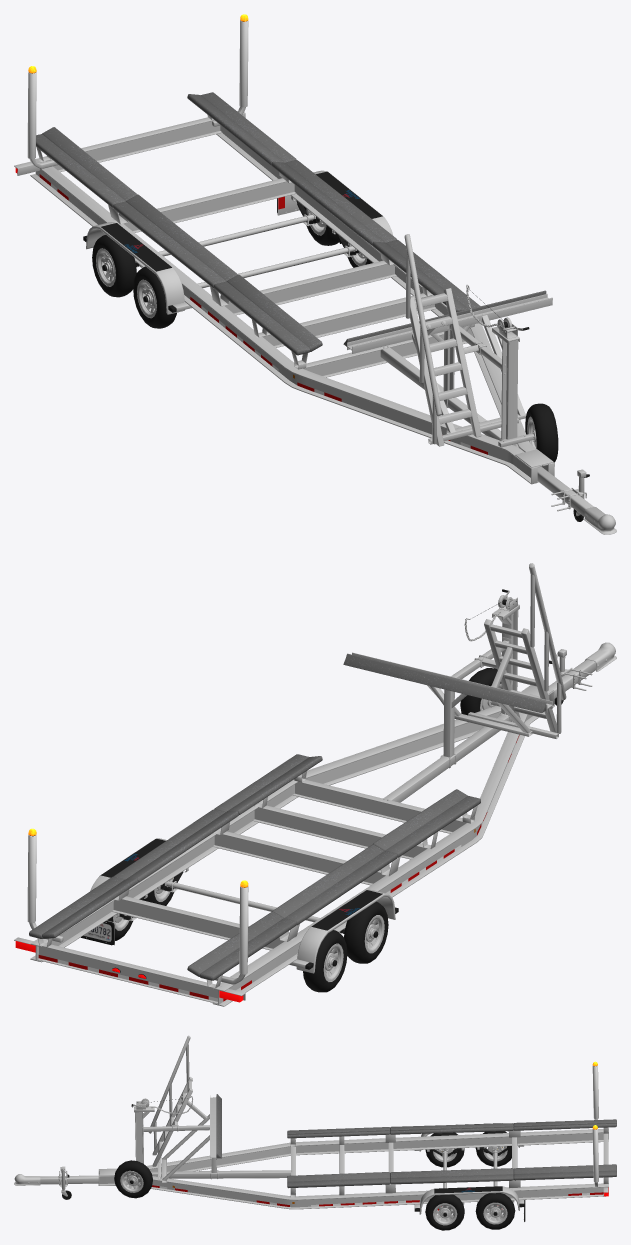
Rendered from trailer_low.glb.
3 views of the same model, one above another, from view 1: azimuth 30°, elevation 25°; view 2: azimuth 150°, elevation 25°; view 3: azimuth 270°, elevation 25° (orthographic). The views are drawn at different scales.
Parts seen in each view (by area): view 1: Object_2, Object_3; view 2: Object_2, Object_3; view 3: Object_2, Object_3.
Boxes of the visible parts, x1=… form: Object_2: x1=27, y1=14, x2=616, y2=534; Object_3: x1=14, y1=111, x2=610, y2=532; Object_2: x1=15, y1=563, x2=616, y2=1006; Object_3: x1=14, y1=595, x2=614, y2=1004; Object_2: x1=14, y1=1035, x2=616, y2=1230; Object_3: x1=22, y1=1100, x2=608, y2=1229.
Size of the model in its own units: 3.24 by 3.11 by 11.82.
1 material, 1 textured.
